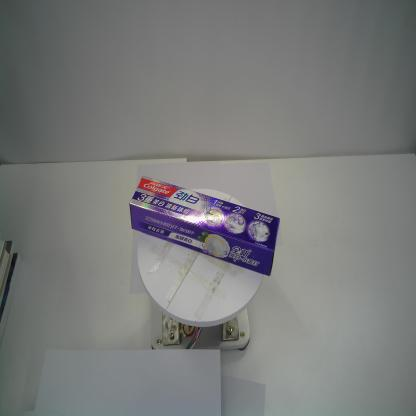Personal Hygiene: (127, 174, 281, 279)
